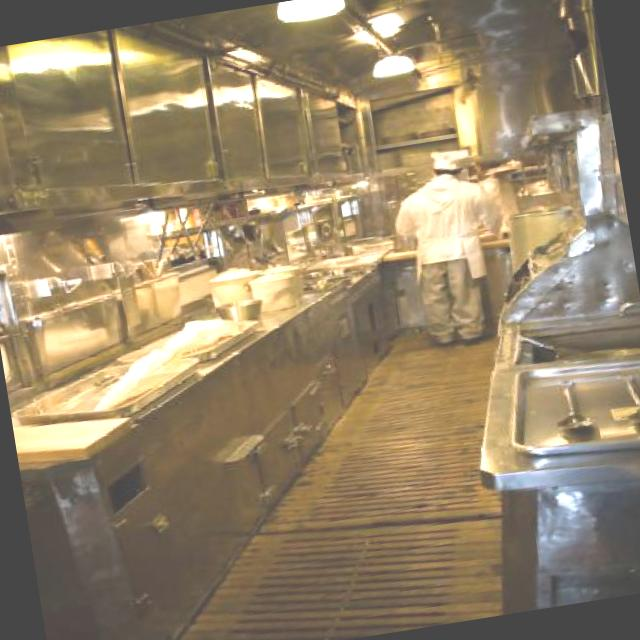Person: (387, 136, 527, 364), (463, 155, 526, 242)
